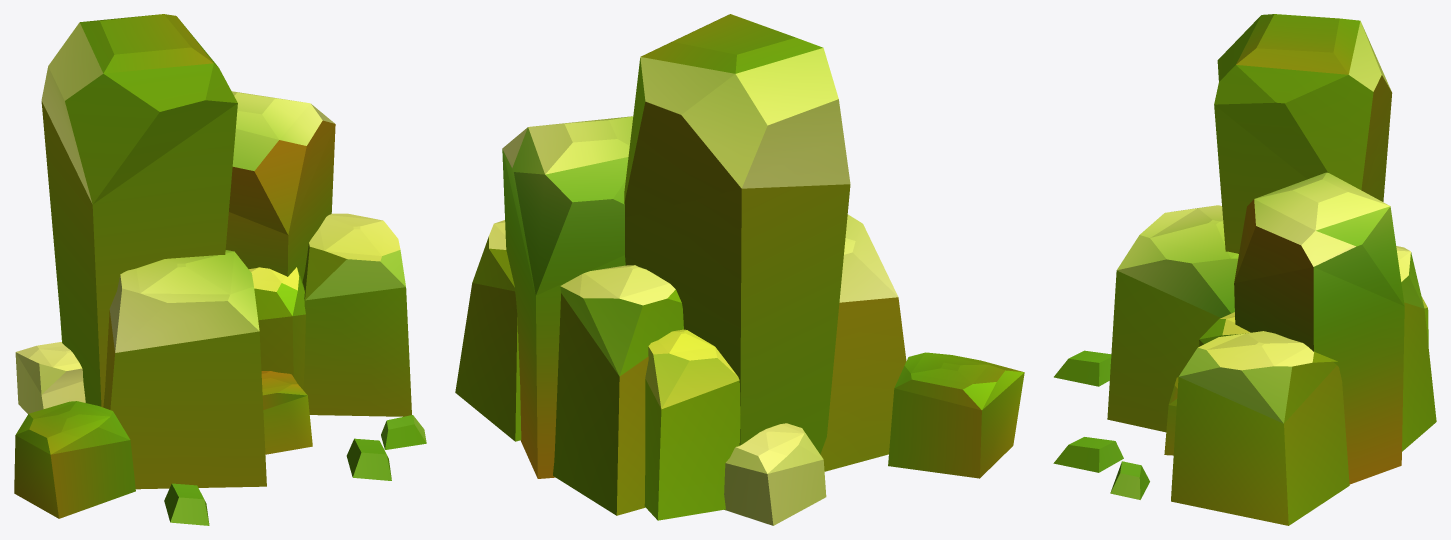
The model's file is mesh_powerstone.fbx.
The picture shows the model from 3 angles, left to right: view 1: azimuth 30°, elevation 25°; view 2: azimuth 150°, elevation 25°; view 3: azimuth 270°, elevation 25°; orthographic projection. The views are drawn at different scales.
Parts seen in each view (by area): view 1: resource_powerstone; view 2: resource_powerstone; view 3: resource_powerstone.
Part boxes in pixels (x1,y1,x2,y2): resource_powerstone: (14,14,426,525); resource_powerstone: (455,14,1024,525); resource_powerstone: (1053,14,1436,525).
Size of the model in its own units: 3 by 2.61 by 2.39.
